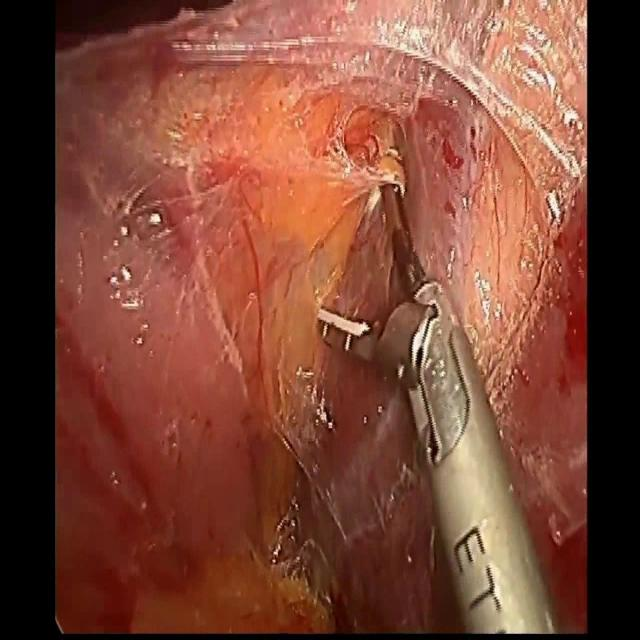surgical-area: (56, 0, 586, 635)
surgical-tool: (319, 184, 564, 635)
